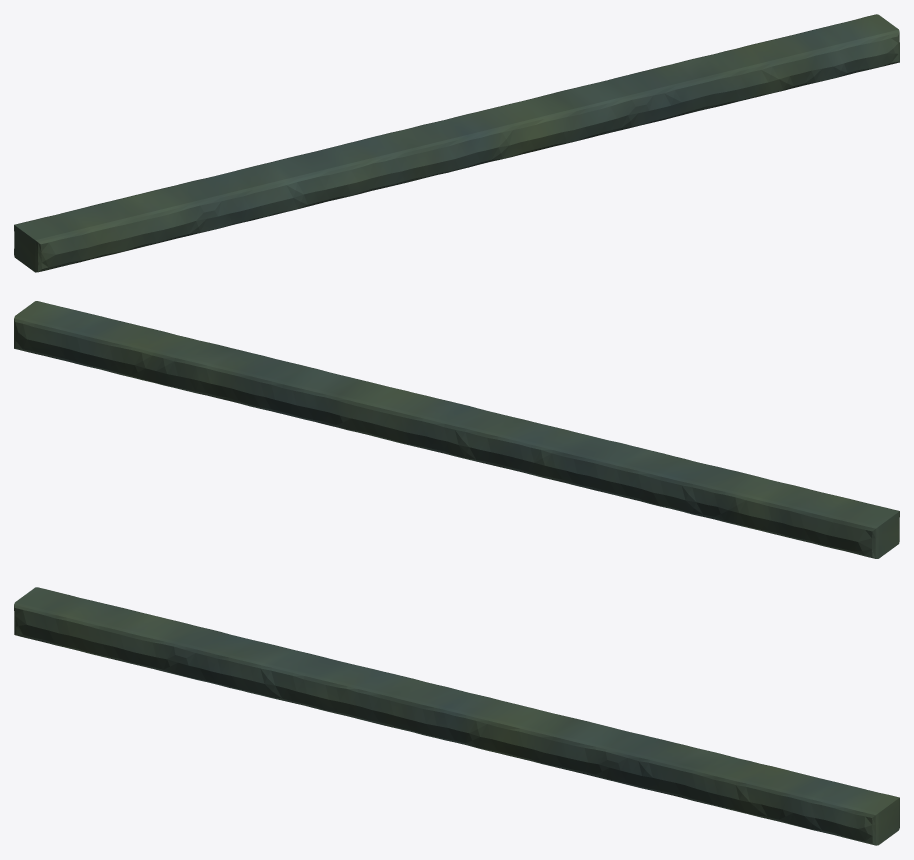
The model's file is ground.glb.
3 views of the same model, one above another, from view 1: azimuth 30°, elevation 25°; view 2: azimuth 150°, elevation 25°; view 3: azimuth 330°, elevation 25° (orthographic).
Parts seen in each view (by area): view 1: Ground slab; view 2: Ground slab; view 3: Ground slab.
Boxes of the visible parts, x1,y1,x2,y2 form: Ground slab: (14, 14, 899, 272); Ground slab: (14, 301, 899, 558); Ground slab: (14, 587, 899, 845).
Size of the model in its own units: 56 by 2 by 3.32.
